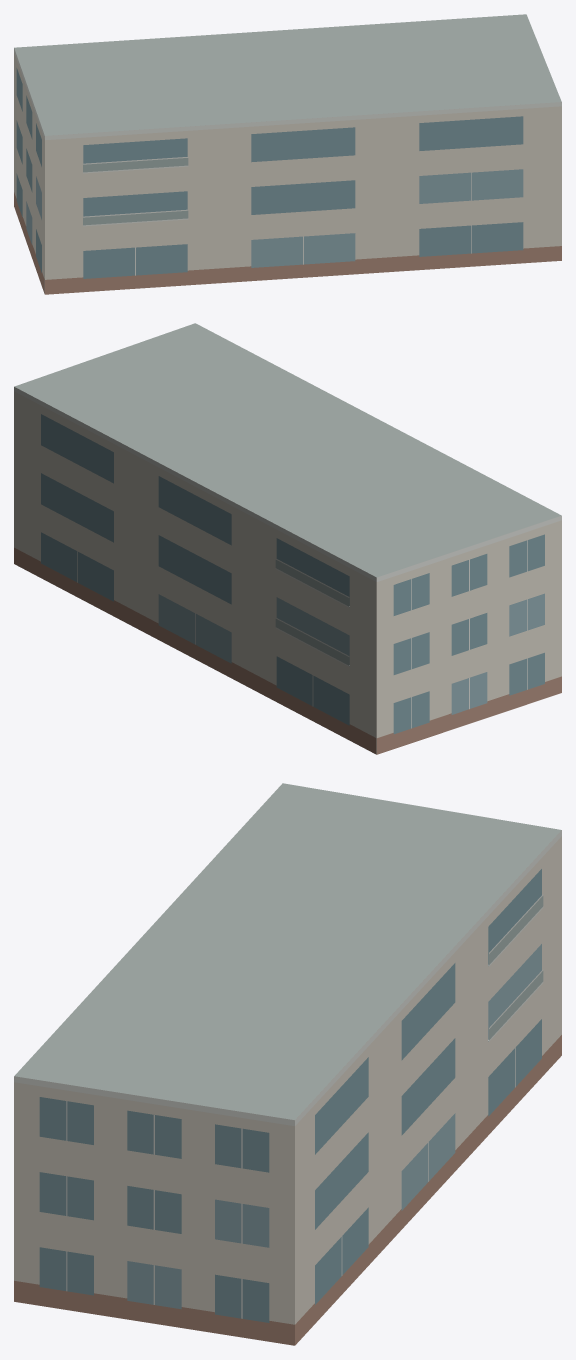
Rendered from survey-upis-32879670.glb.
3 renders of one model, top to bottom at view 1: azimuth 30°, elevation 25°; view 2: azimuth 150°, elevation 25°; view 3: azimuth 270°, elevation 25°, orthographic. The views are drawn at different scales.
Parts seen in each view (by area): view 1: survey-upis-32879670.tmp; view 2: survey-upis-32879670.tmp; view 3: survey-upis-32879670.tmp.
Boxes of the visible parts, x1=… form: survey-upis-32879670.tmp: x1=14, y1=14, x2=561, y2=294; survey-upis-32879670.tmp: x1=14, y1=323, x2=561, y2=754; survey-upis-32879670.tmp: x1=14, y1=783, x2=561, y2=1345.
Size of the model in its own units: 29.34 by 9.15 by 20.15.
